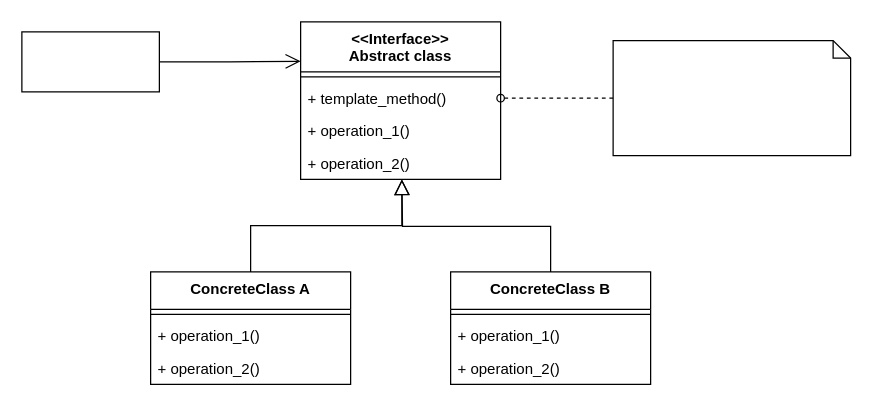
Image size: 873x410. Some labels were removed from this diagram. Each missing label, with the centre of its shape:
"Client" belongs at (90,61).
"def template_method(): ... operation_1() ... operation_2() ..." belongs at (731,97).
